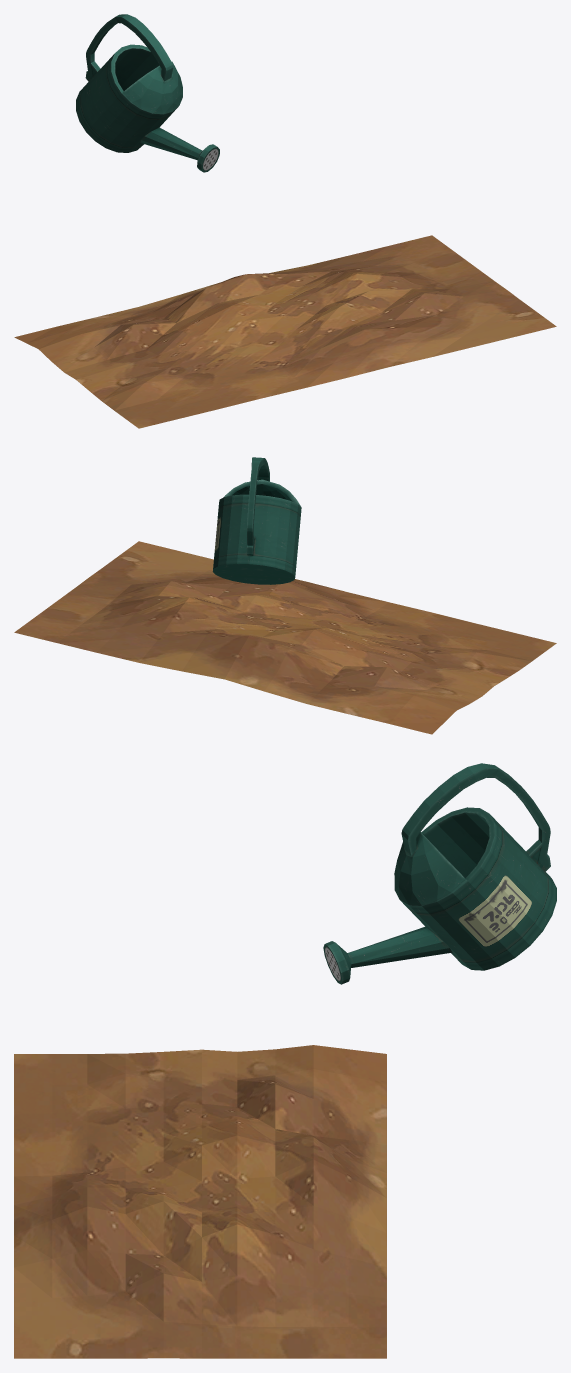
Rendered from P_FlowerPot_011_S1_M02.obj.
3 views of the same model, one above another, from view 1: azimuth 30°, elevation 25°; view 2: azimuth 150°, elevation 25°; view 3: azimuth 270°, elevation 25° (orthographic). The views are drawn at different scales.
Bounding box in the file's own units: 1.83 × 1.1 × 1.38.
Materials: 2 (2 with a texture image).
